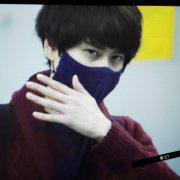OK: (59, 35, 130, 106)
